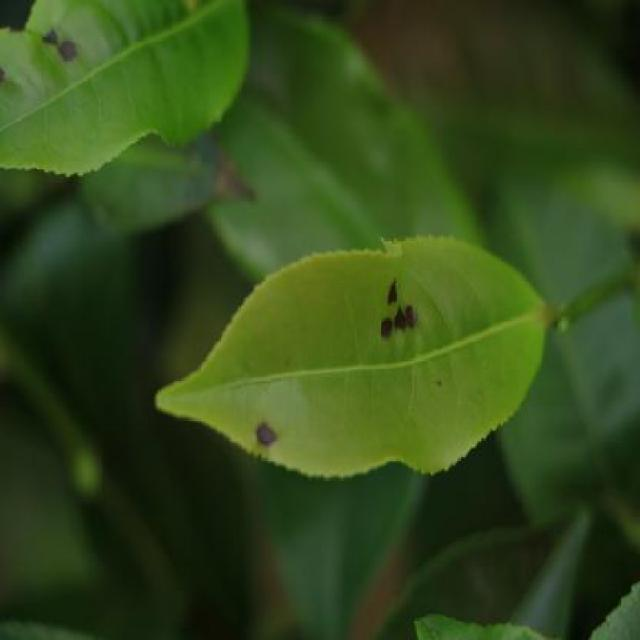Tea Mosquito bug infested leaf: (154, 235, 575, 483)
